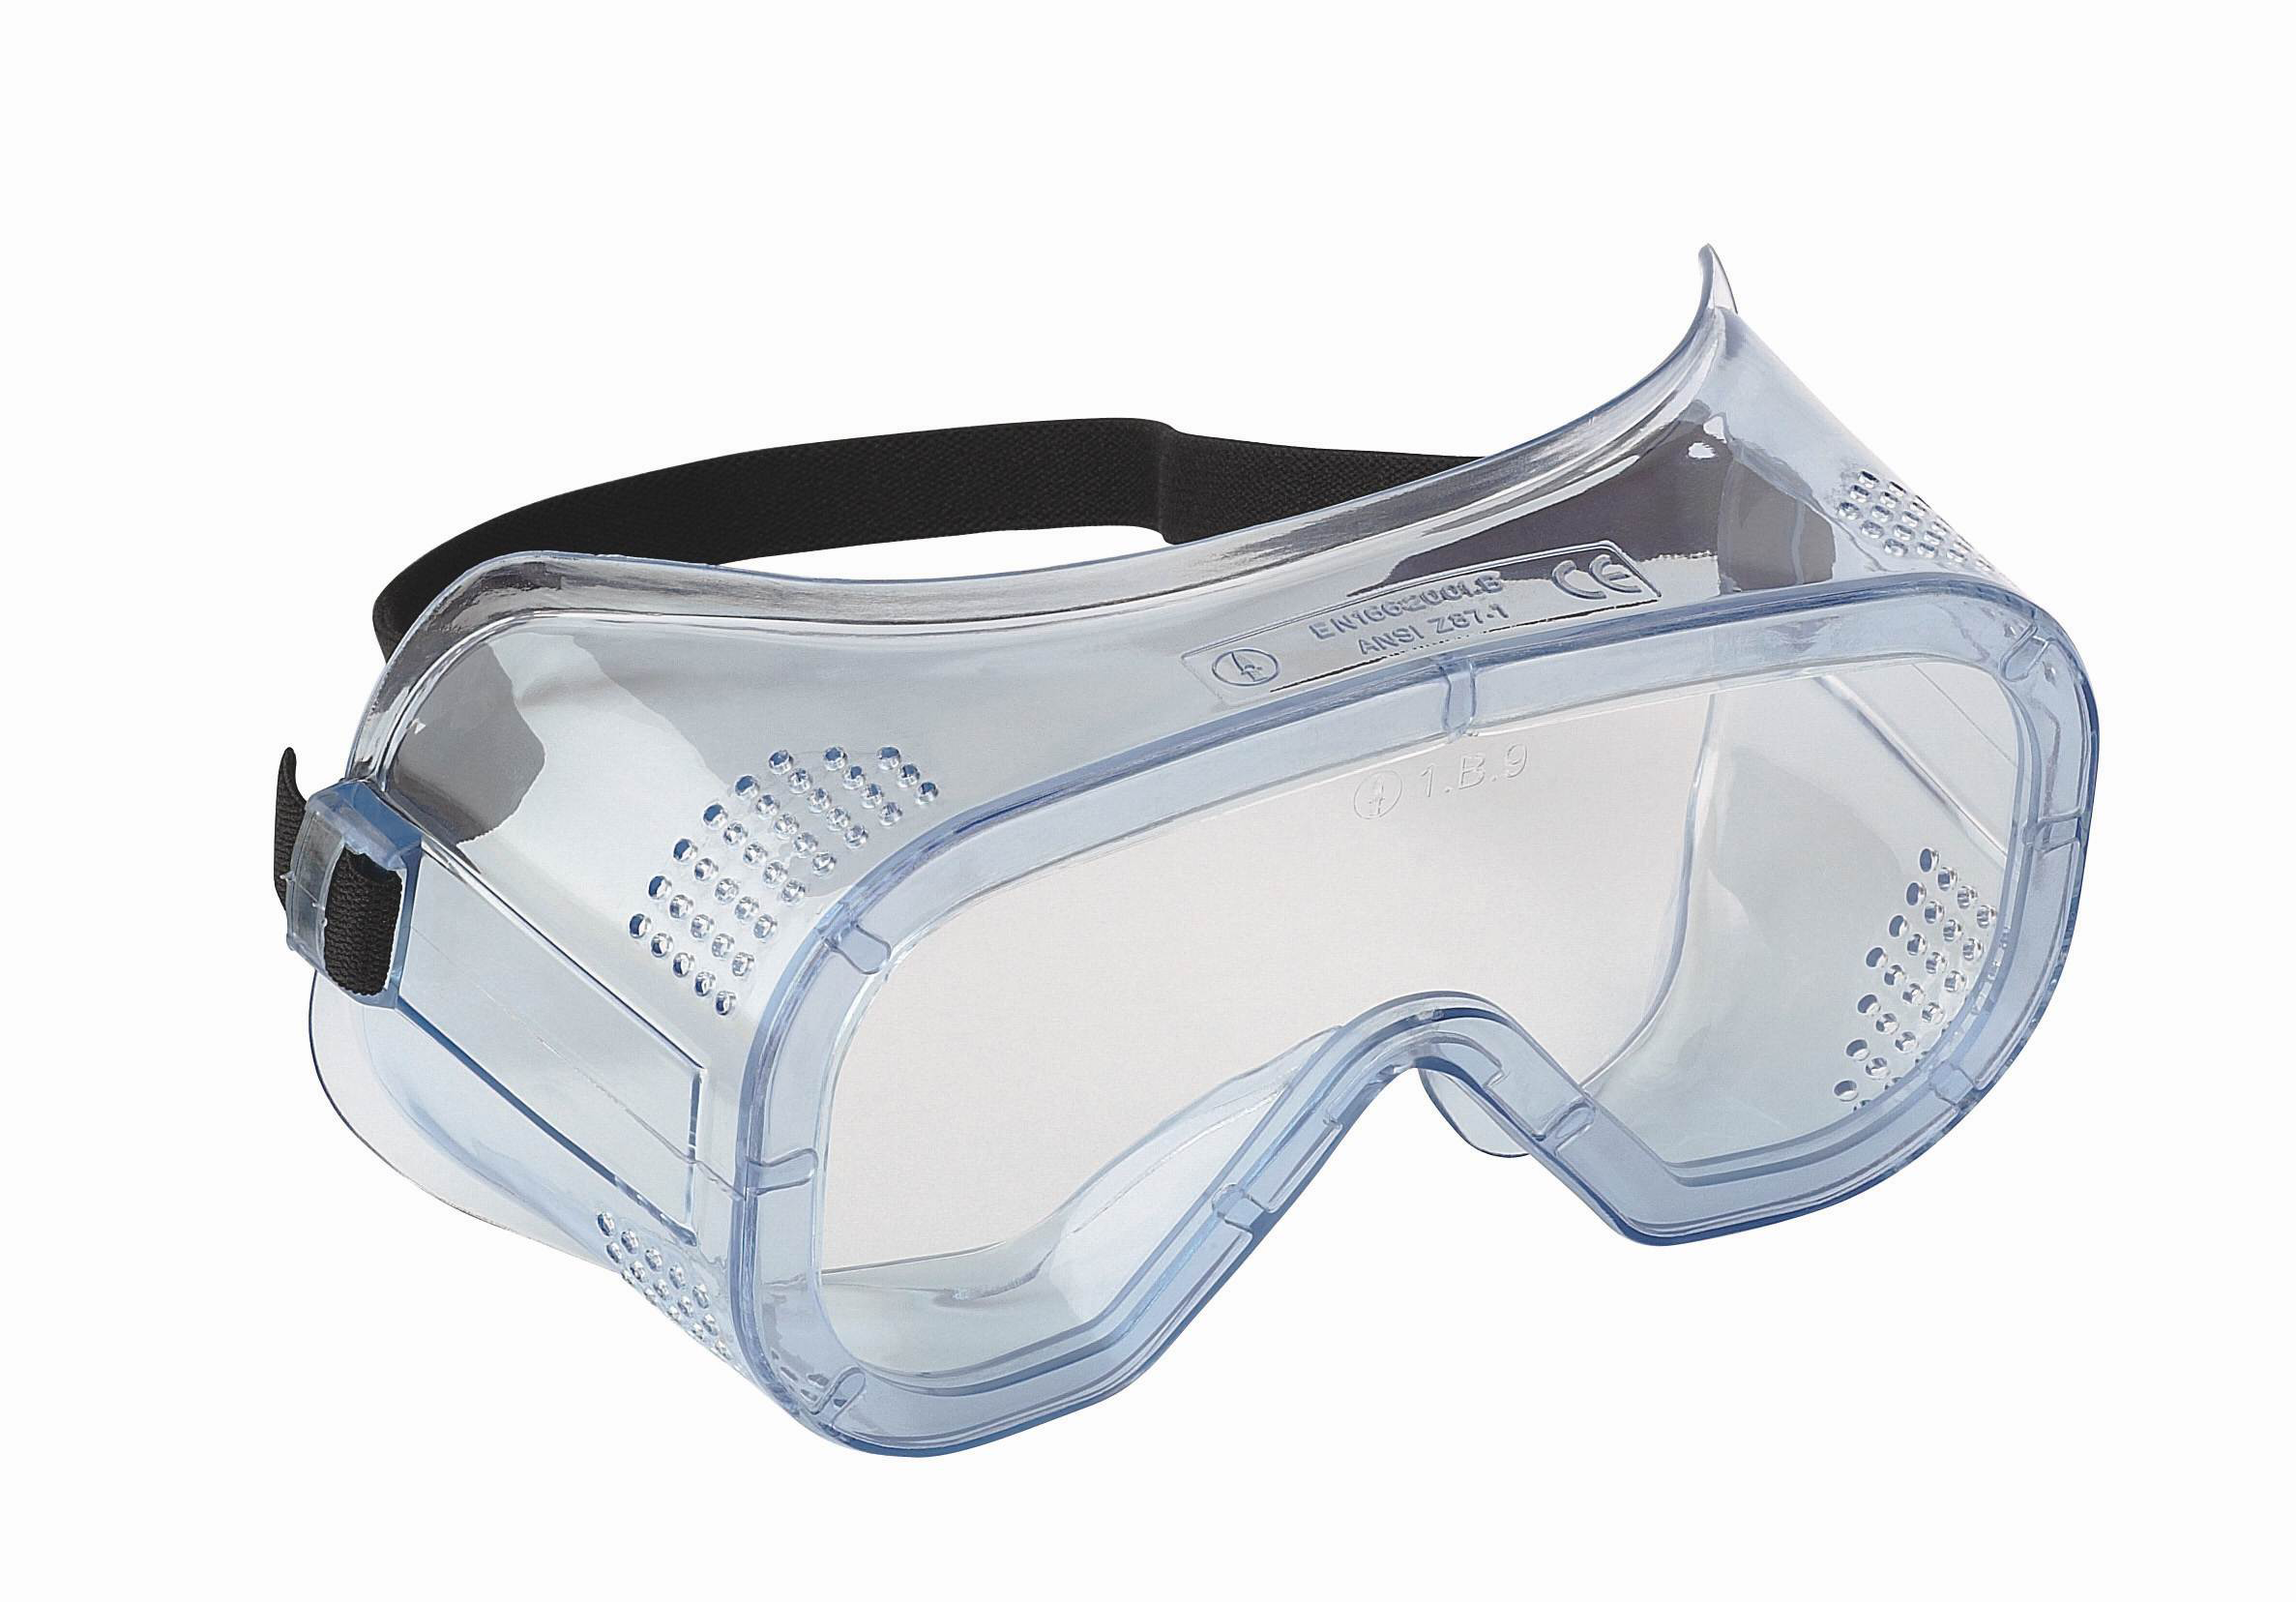Goggles: (263, 218, 2101, 1455)
